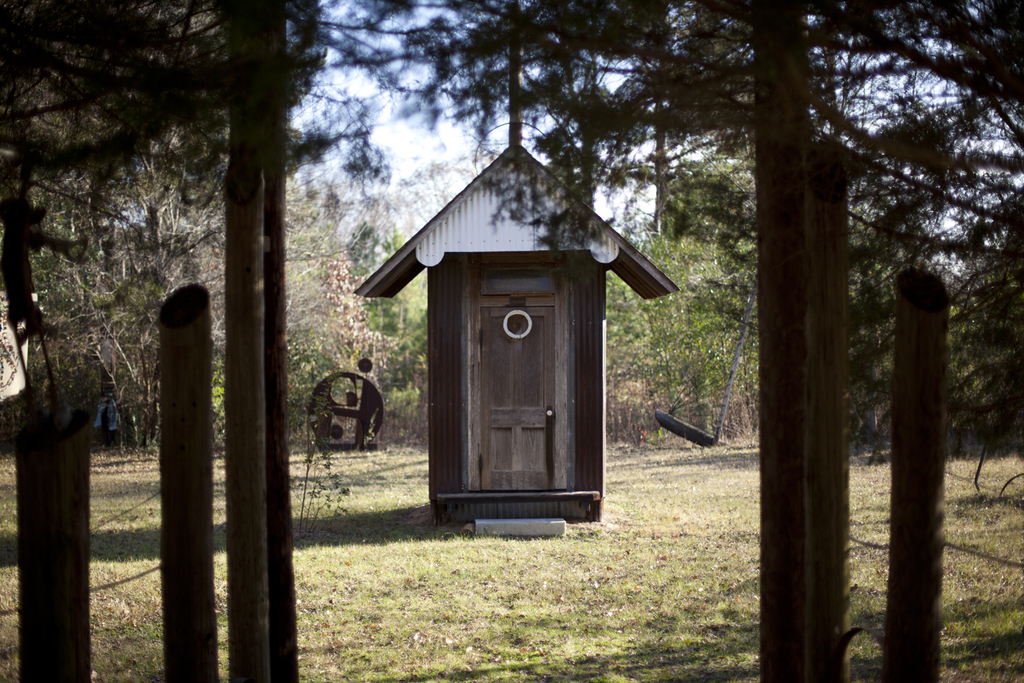Tree: (386, 0, 1024, 455), (0, 0, 439, 454)
